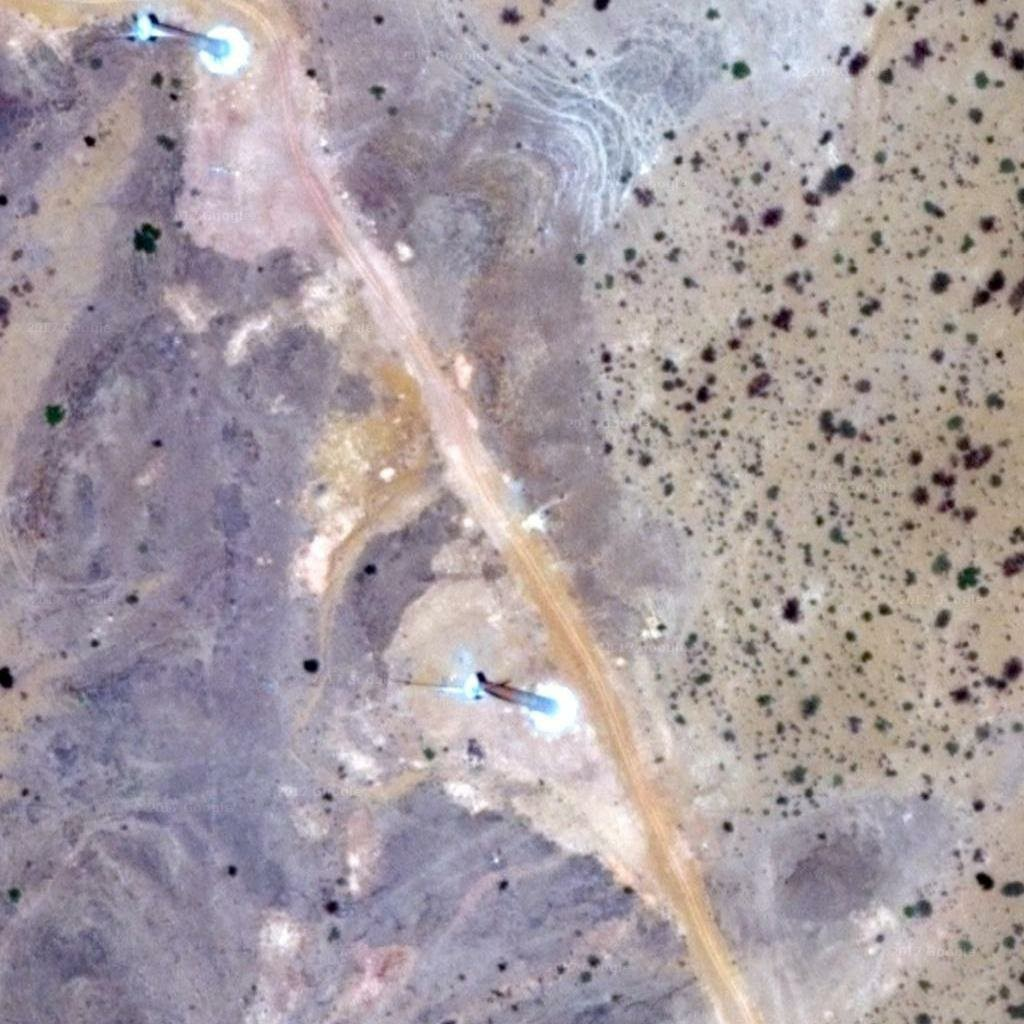Windmill: (104, 8, 268, 52)
